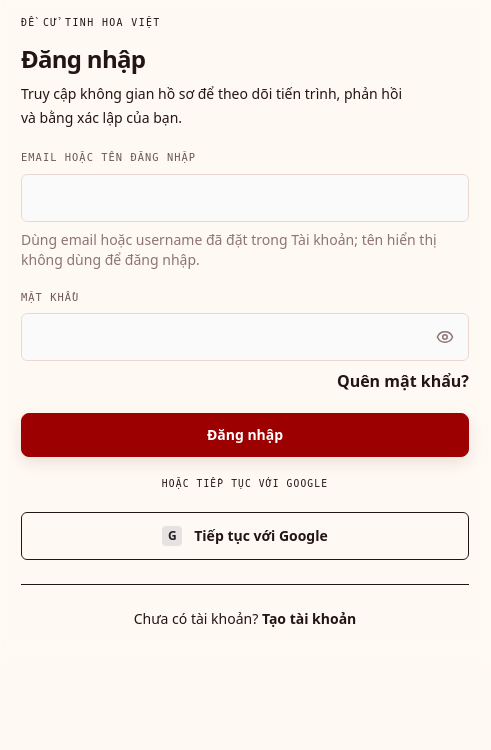
Test: LoginForm › distinguishes a rejected Firebase identity from an inactive account
The width and height of the screenshot is (491, 750).
Type "admin@example.vn" into the field labelled "Email hoặc tên đăng nhập" at [245, 198], box [21,174,469,222]
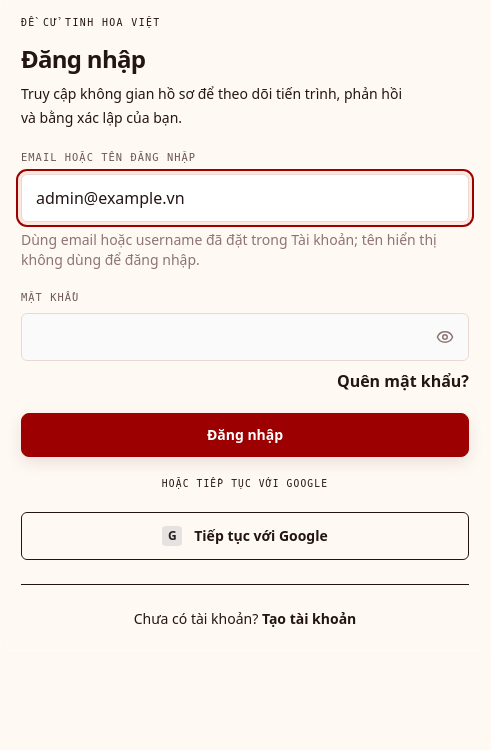
Type "valid password" into the password field labelled "Mật khẩu" at [245, 337], box [21,313,469,361]
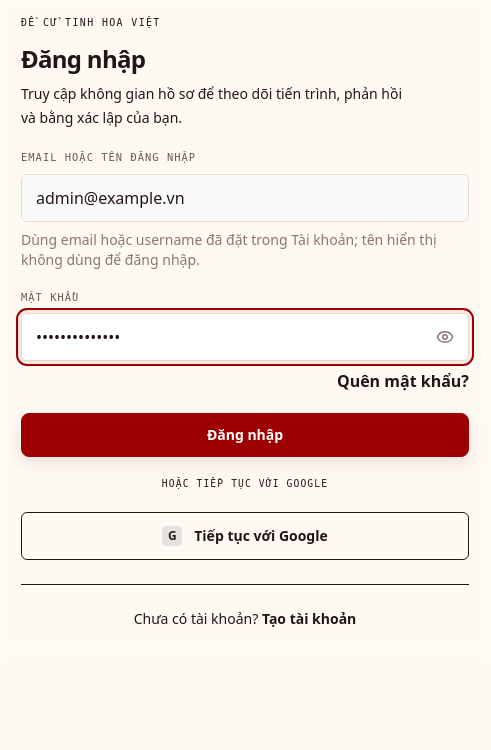
Click the button "Đăng nhập" at [245, 435], box [21,413,469,457]
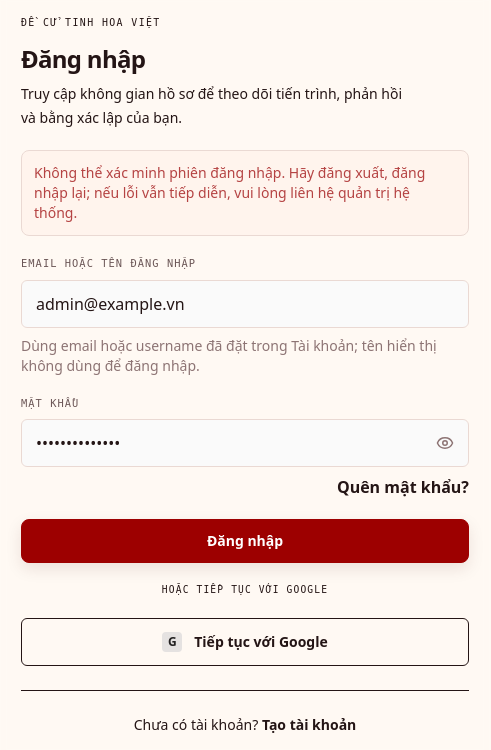
Result: the message shows "Không thể xác minh phiên đăng nhập" at [34,163,425,222]
